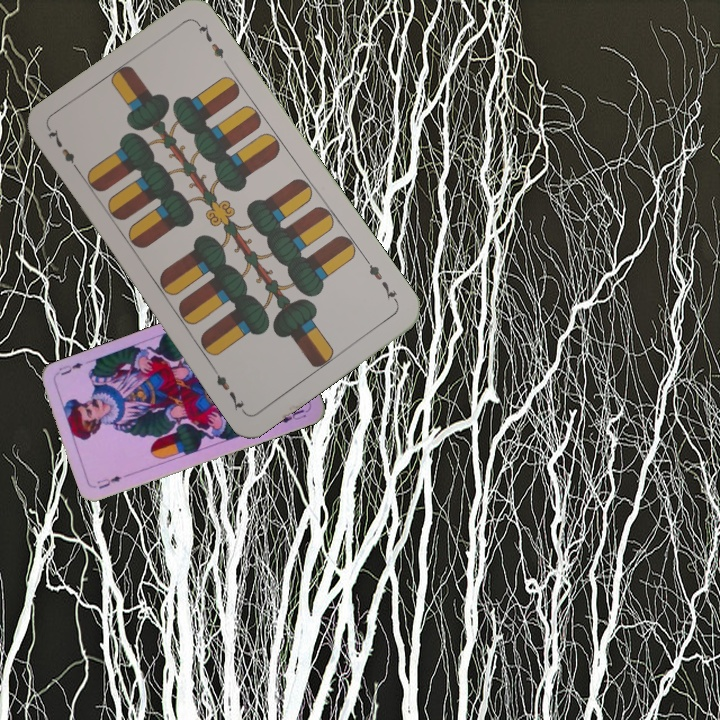E7: (44, 125, 84, 177), (361, 255, 401, 306)
EU: (93, 472, 124, 492)
